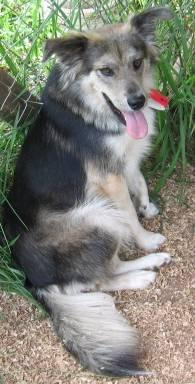dog: (13, 10, 170, 296)
